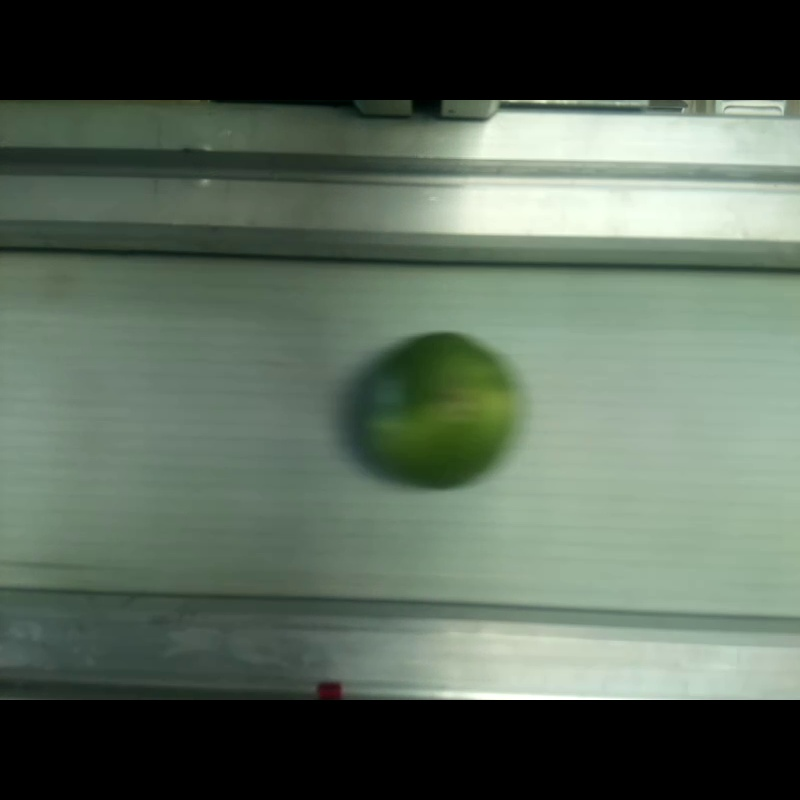lime: (359, 331, 517, 487)
